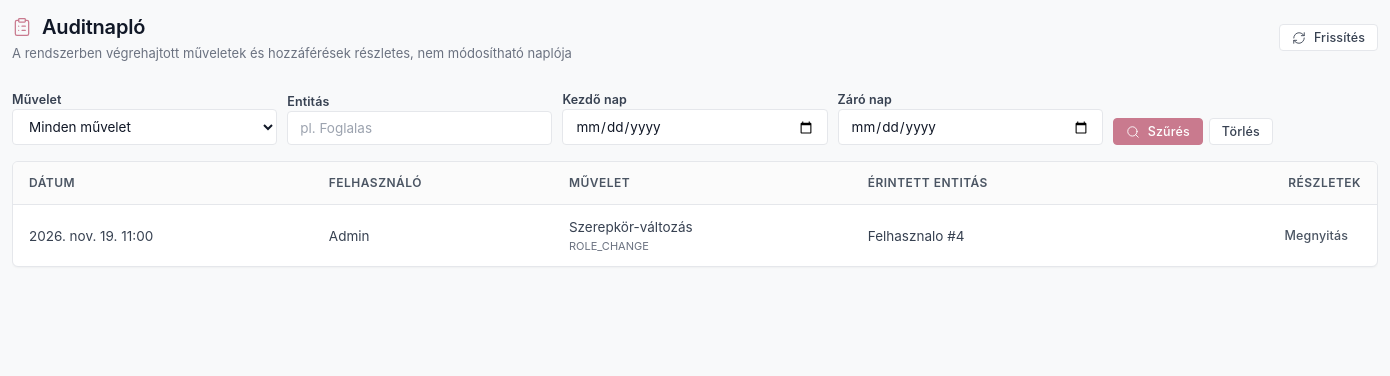
Test: AuditLogPage › shows the old and new values and the reason of an entry
Click the button "Megnyitás": (1316, 236) [1272,222,1361,249]
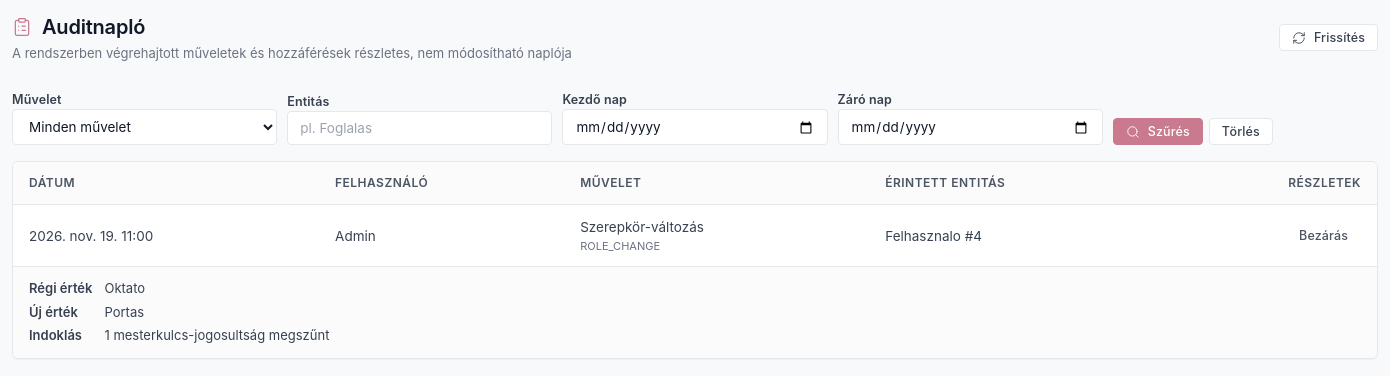
expect the text "Régi érték" is shown: met, box [29,279,92,298]
expect the text "Oktato" is shown: met, box [104,280,145,296]
expect the text "Portas" is shown: met, box [104,304,144,320]
